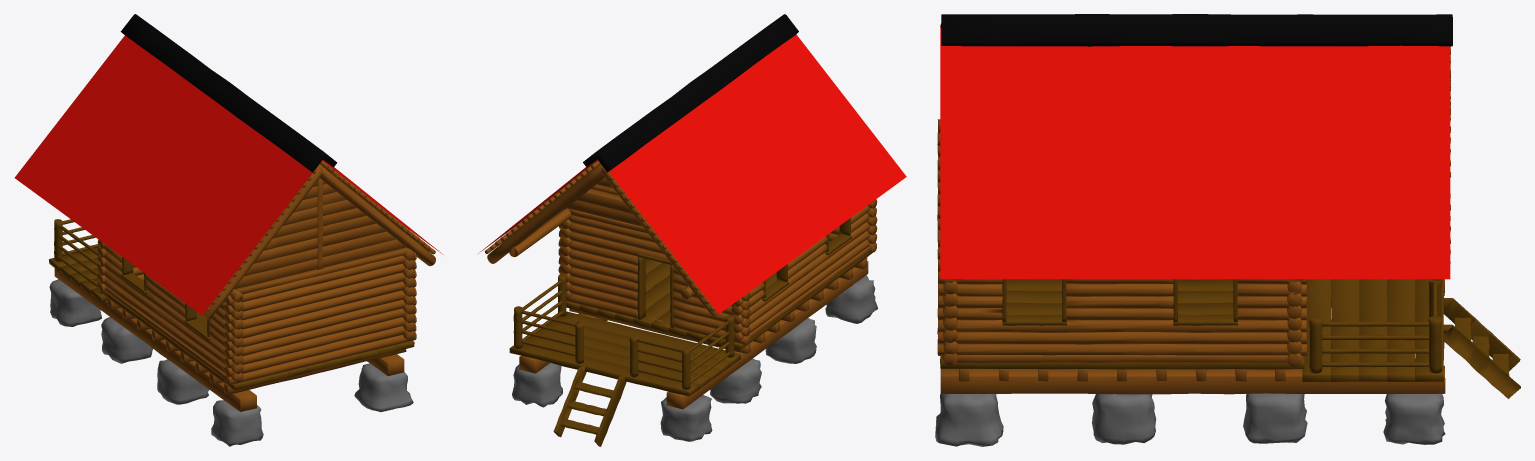
Rendered from LogCabinV3.4.5--FbxVersioLowPollyV3.fbx.
The picture shows the model from 3 angles, left to right: view 1: azimuth 30°, elevation 25°; view 2: azimuth 150°, elevation 25°; view 3: azimuth 270°, elevation 25°; orthographic projection. The views are drawn at different scales.
Parts seen in each view (by area): view 1: Runko; view 2: Runko; view 3: Runko.
Part boxes in pixels (x1,y1,x2,y2): Runko: [14, 14, 442, 446]; Runko: [478, 14, 906, 446]; Runko: [935, 14, 1520, 446].
Size of the model in its own units: 1400 by 1512 by 2143.
